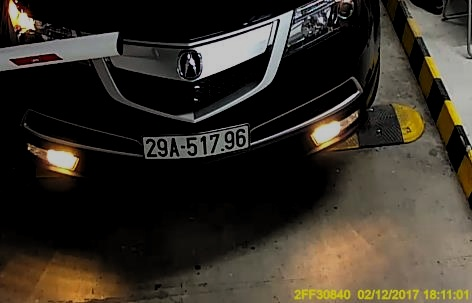plate: (136, 124, 254, 164)
